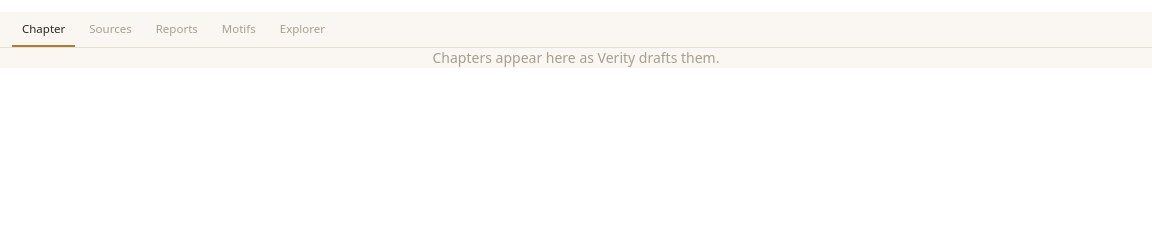
Test: CompanionPane › keeps visited tabs mounted (hidden) when switching away
Click the button "Sources".
click(110, 30)  # box [79,12,142,47]
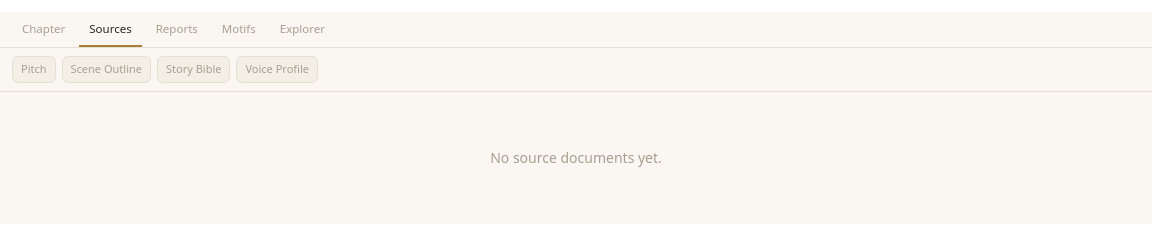
Click the button "Chapter".
click(44, 30)  # box [12,12,75,47]
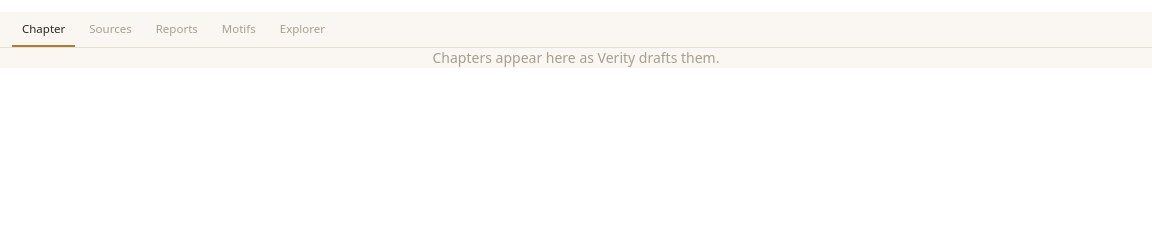
Now the text "Chapters appear here as Verity drafts them." is shown, box [432,48,720,67]
